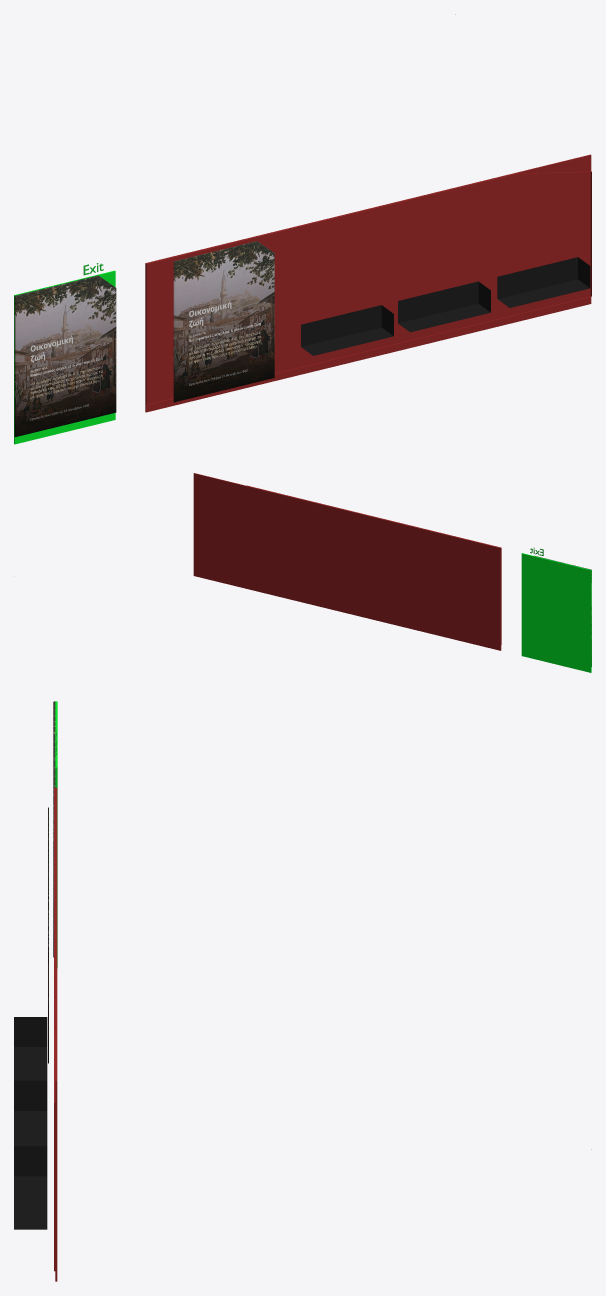
File: RoomExhnoHDR.glb
3 renders of one model, top to bottom at view 1: azimuth 30°, elevation 25°; view 2: azimuth 150°, elevation 25°; view 3: azimuth 270°, elevation 25°, orthographic. The views are drawn at different scales.
Visible parts, largest first — view 1: TAB_01, exit_tab, TAB_03.001, stamd3, stand1, stand0; view 2: TAB_01, exit_tab; view 3: stamd3, stand1, stand0, TAB_01, exit_tab.
Part boxes in pixels (x1,y1,x2,y2): TAB_01: (145, 154, 591, 412); exit_tab: (14, 270, 116, 444); TAB_03.001: (173, 241, 274, 402); stamd3: (497, 257, 590, 307); stand1: (398, 281, 490, 332); stand0: (301, 305, 393, 355); TAB_01: (193, 473, 501, 650); exit_tab: (521, 553, 591, 672); stamd3: (14, 1146, 47, 1229); stand1: (14, 1080, 47, 1146); stand0: (14, 1017, 47, 1080); TAB_01: (54, 787, 57, 1281); exit_tab: (53, 701, 57, 967).
Size of what is drawn, in the model's own units: 13.94 by 3.37 by 8.09.
6 materials, 1 textured.
